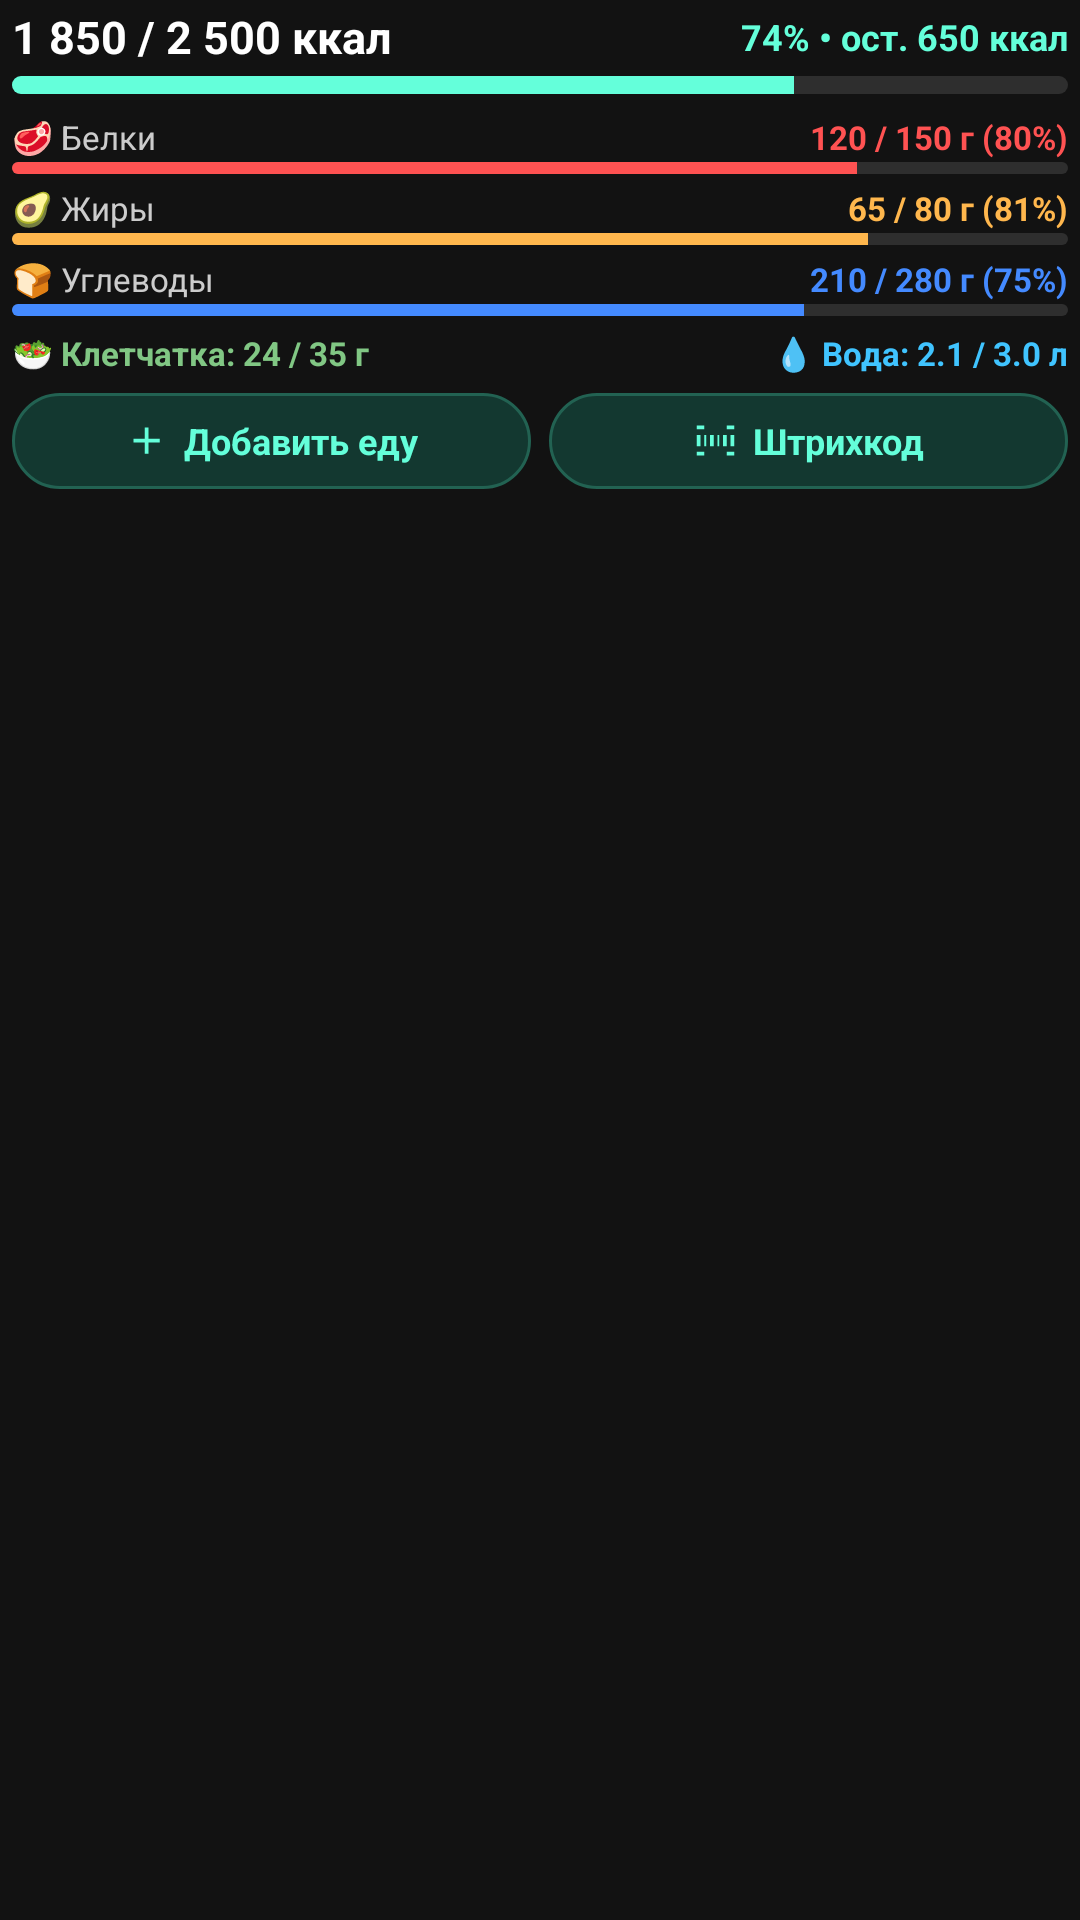

Icon click points for this 1080×1920 phone screenshot, format (x,y):
notif add: (146,440)
notif barcode: (715,440)
